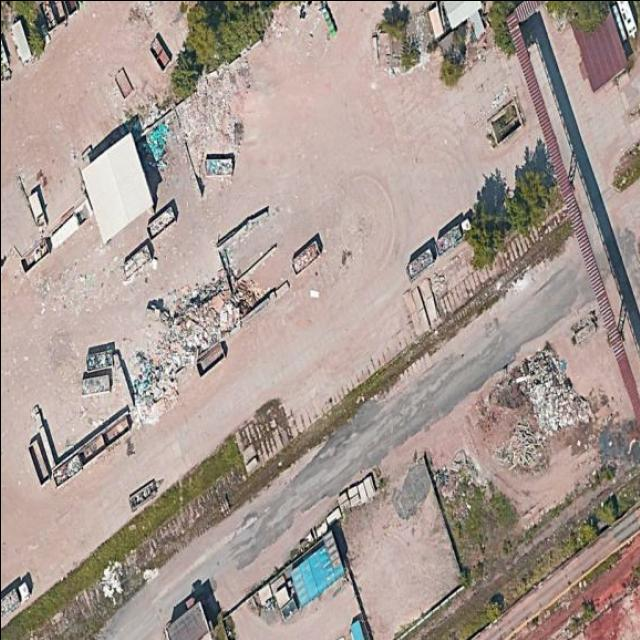dump_site: (101, 252, 270, 437), (486, 341, 596, 472)
